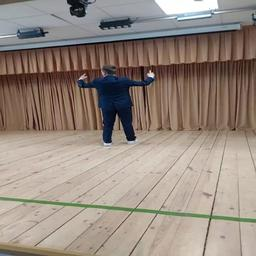person: (94, 64, 140, 146)
